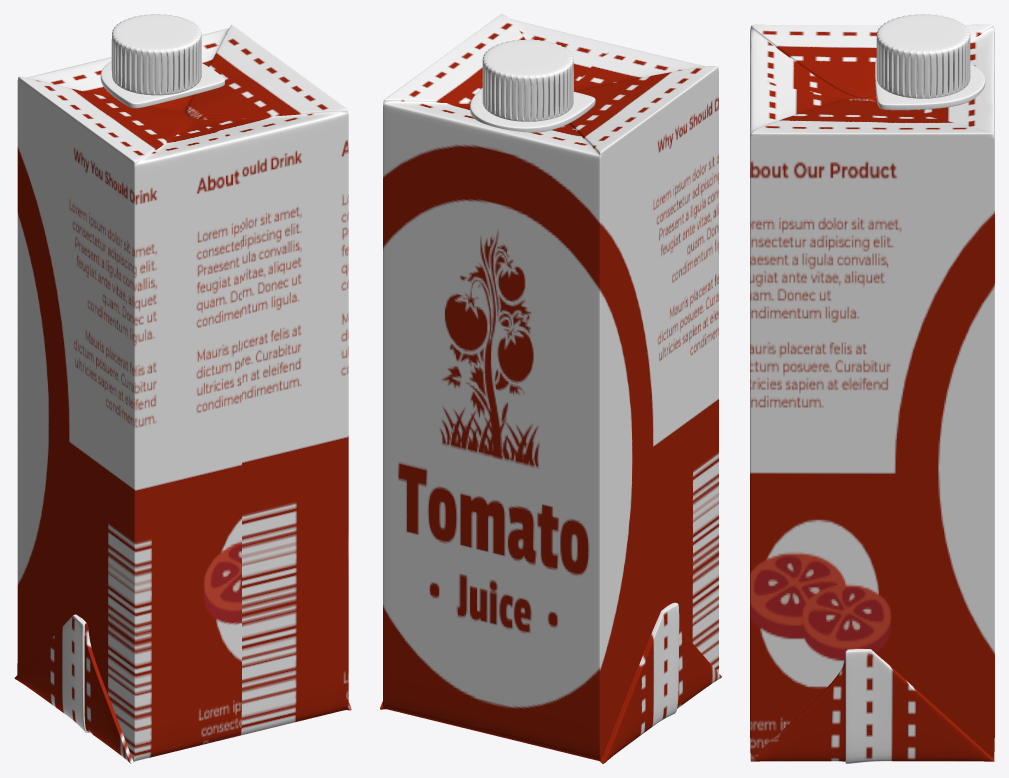
The model's file is TomatoJuice.fbx.
3 views of the same model, side by side, from view 1: azimuth 30°, elevation 25°; view 2: azimuth 150°, elevation 25°; view 3: azimuth 270°, elevation 25° (orthographic). The views are drawn at different scales.
Parts seen in each view (by area): view 1: Pack_1l_hires, Cap_1l_hires, Insert_1l_hires; view 2: Pack_1l_hires, Cap_1l_hires, Insert_1l_hires; view 3: Pack_1l_hires, Cap_1l_hires, Insert_1l_hires.
Boxes of the visible parts, <box> form: Pack_1l_hires: <box>14,25,351,763</box>; Cap_1l_hires: <box>111,14,201,95</box>; Insert_1l_hires: <box>100,61,224,108</box>; Pack_1l_hires: <box>380,14,721,763</box>; Cap_1l_hires: <box>482,39,573,121</box>; Insert_1l_hires: <box>470,88,595,132</box>; Pack_1l_hires: <box>750,24,994,763</box>; Cap_1l_hires: <box>876,14,970,98</box>; Insert_1l_hires: <box>875,59,985,110</box>.
Bounding box in the file's own units: 114 × 311 × 102.
Materials: 2 (1 with a texture image).
